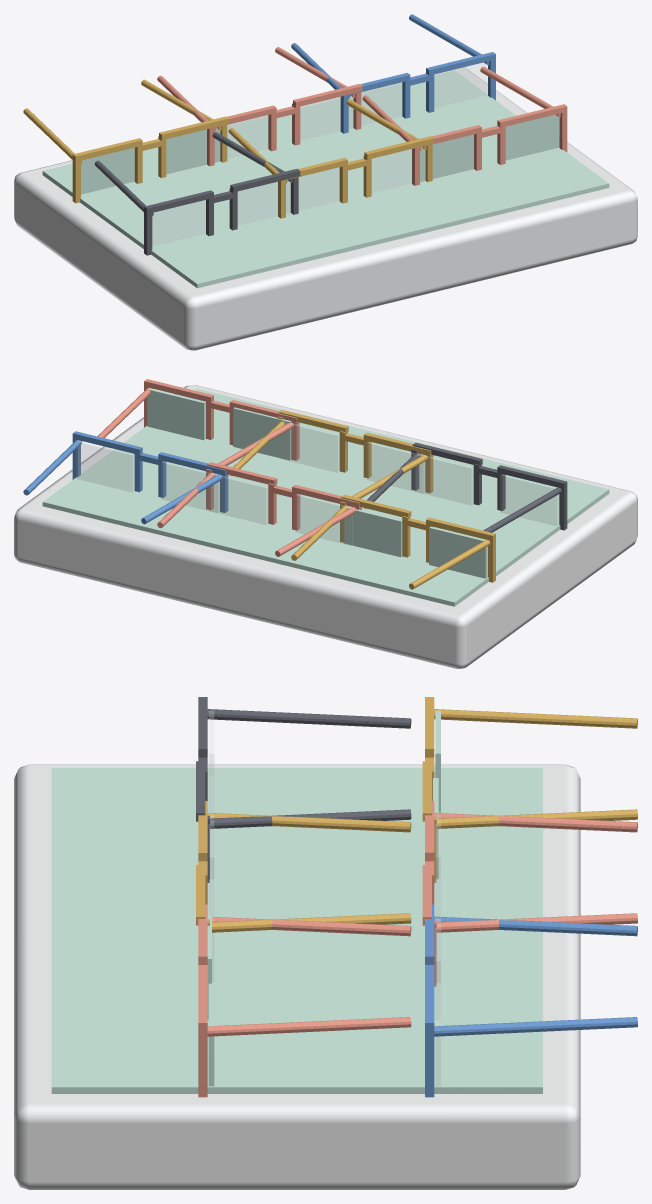
3 renders of one model, top to bottom at view 1: azimuth 30°, elevation 25°; view 2: azimuth 150°, elevation 25°; view 3: azimuth 270°, elevation 25°, orthographic. The views are drawn at different scales.
Visible parts, largest first — view 1: frame-tray; view 2: frame-tray; view 3: frame-tray.
Boxes of the visible parts, <box> form: frame-tray: <box>14,14,637,350</box>; frame-tray: <box>14,379,637,668</box>; frame-tray: <box>14,697,637,1189</box>.
Bounding box in the file's own units: 0.44 × 0.0947 × 0.3303.
